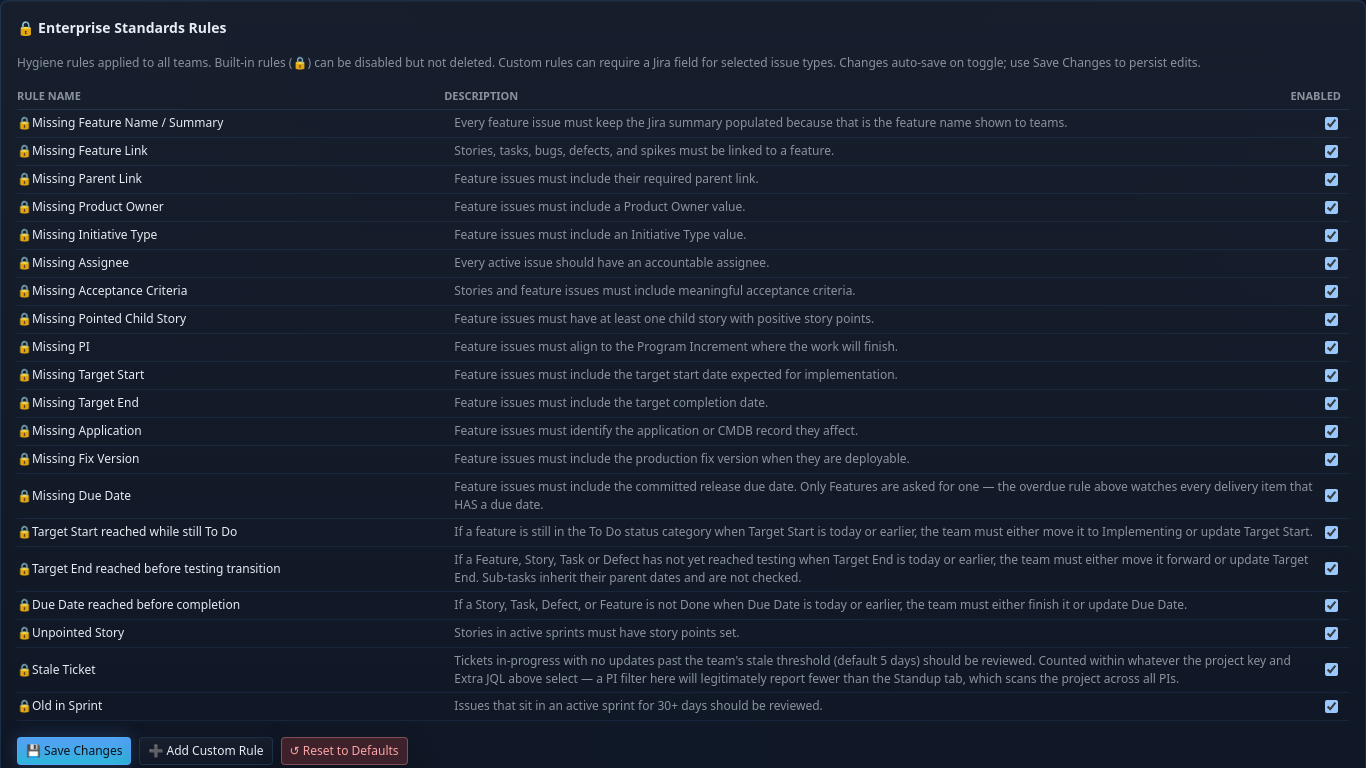
EnterpriseStandardsPanel › shows a saved confirmation after Save Changes
Click the button "💾 Save Changes": {"x": 74, "y": 750} [17,736,131,764]
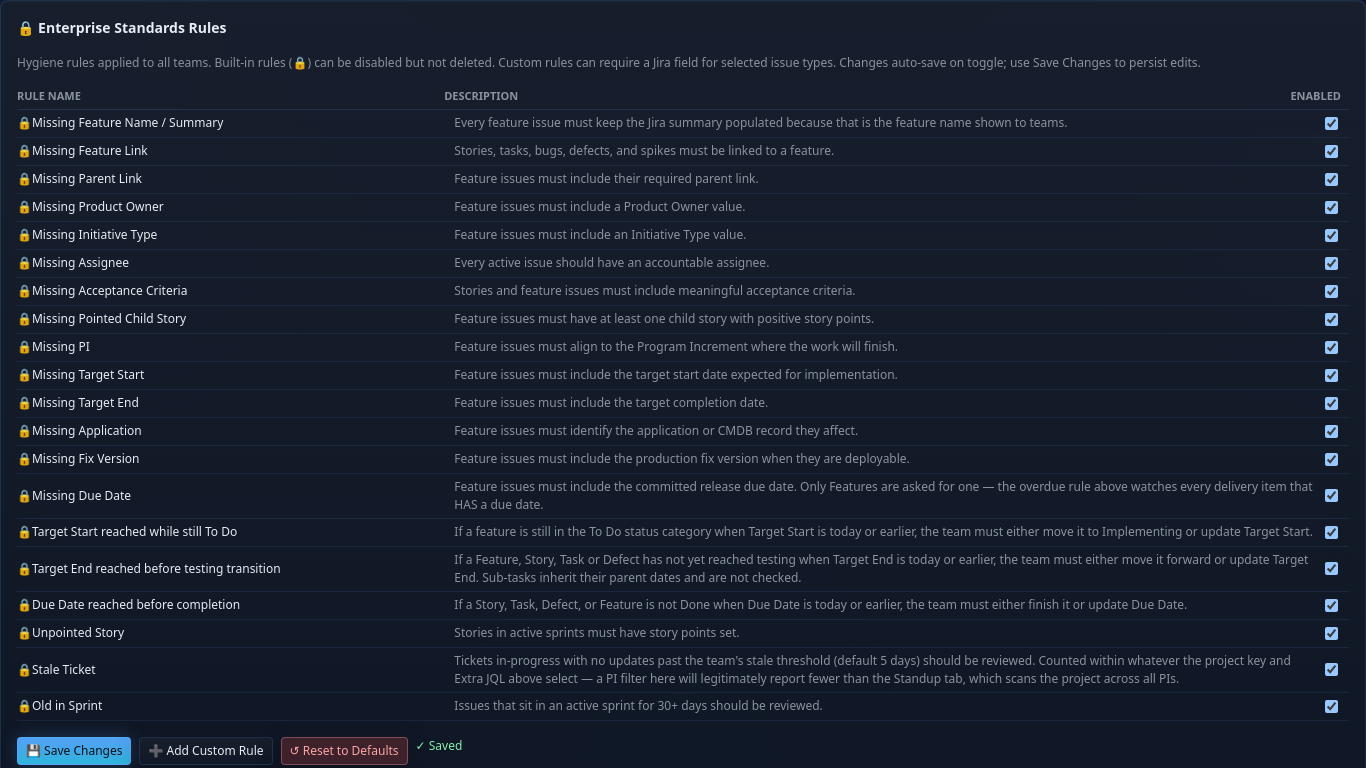
Expected: the text "✓ Saved" is shown, [416,736,462,764]
